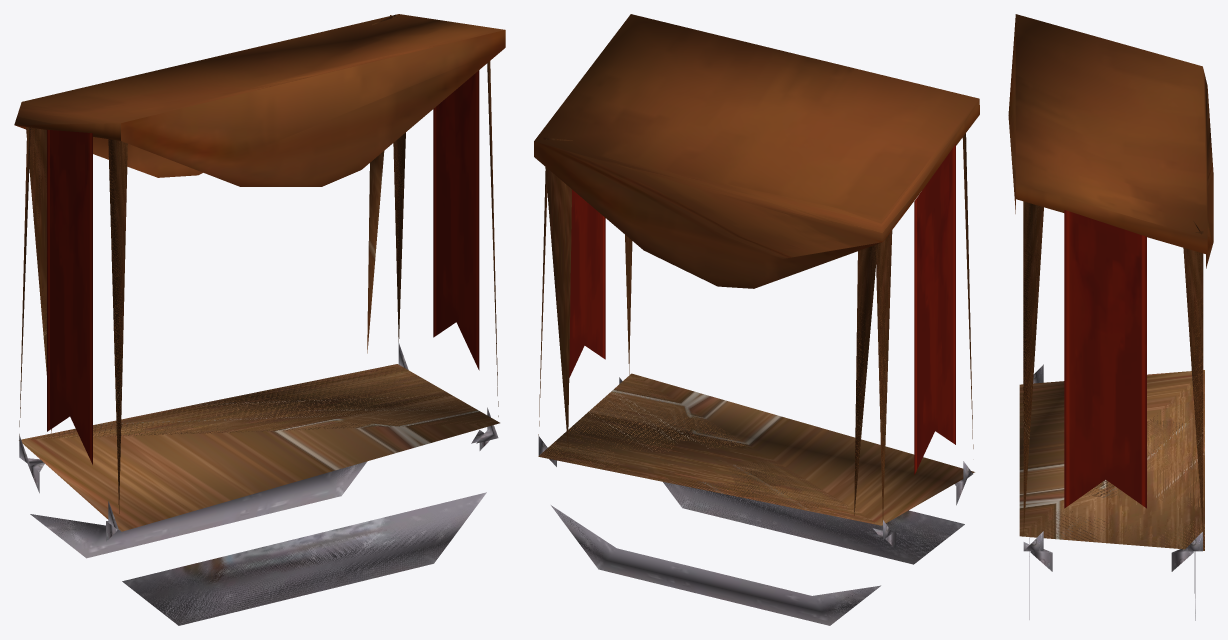
File: Stall_Empty.low.gltf
3 views of the same model, side by side, from view 1: azimuth 30°, elevation 25°; view 2: azimuth 150°, elevation 25°; view 3: azimuth 270°, elevation 25° (orthographic). The views are drawn at different scales.
Visible parts, largest first — view 1: Stall_Empty; view 2: Stall_Empty; view 3: Stall_Empty.
Part boxes in pixels (left/top/right/bottom): Stall_Empty: left=14, top=14, right=505, bottom=625; Stall_Empty: left=534, top=14, right=979, bottom=625; Stall_Empty: left=1008, top=14, right=1213, bottom=620.
Bounding box in the file's own units: 1.82 × 2.36 × 0.9323.
3 materials, 3 textured.
